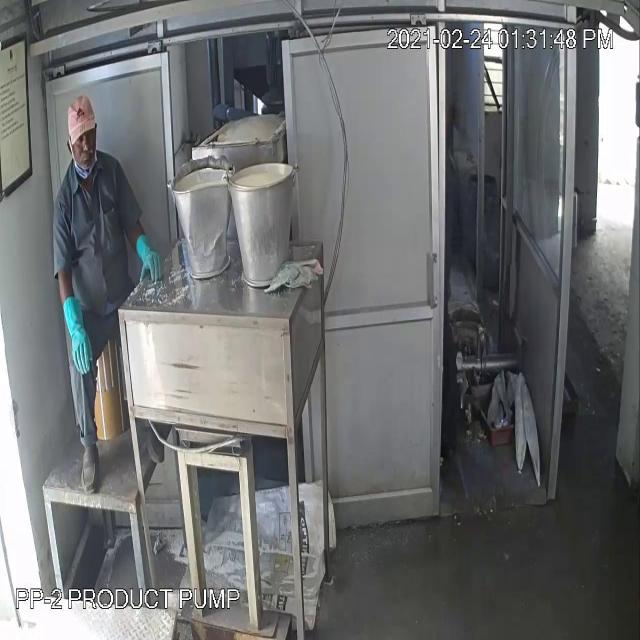no-helmet: (58, 92, 102, 144)
